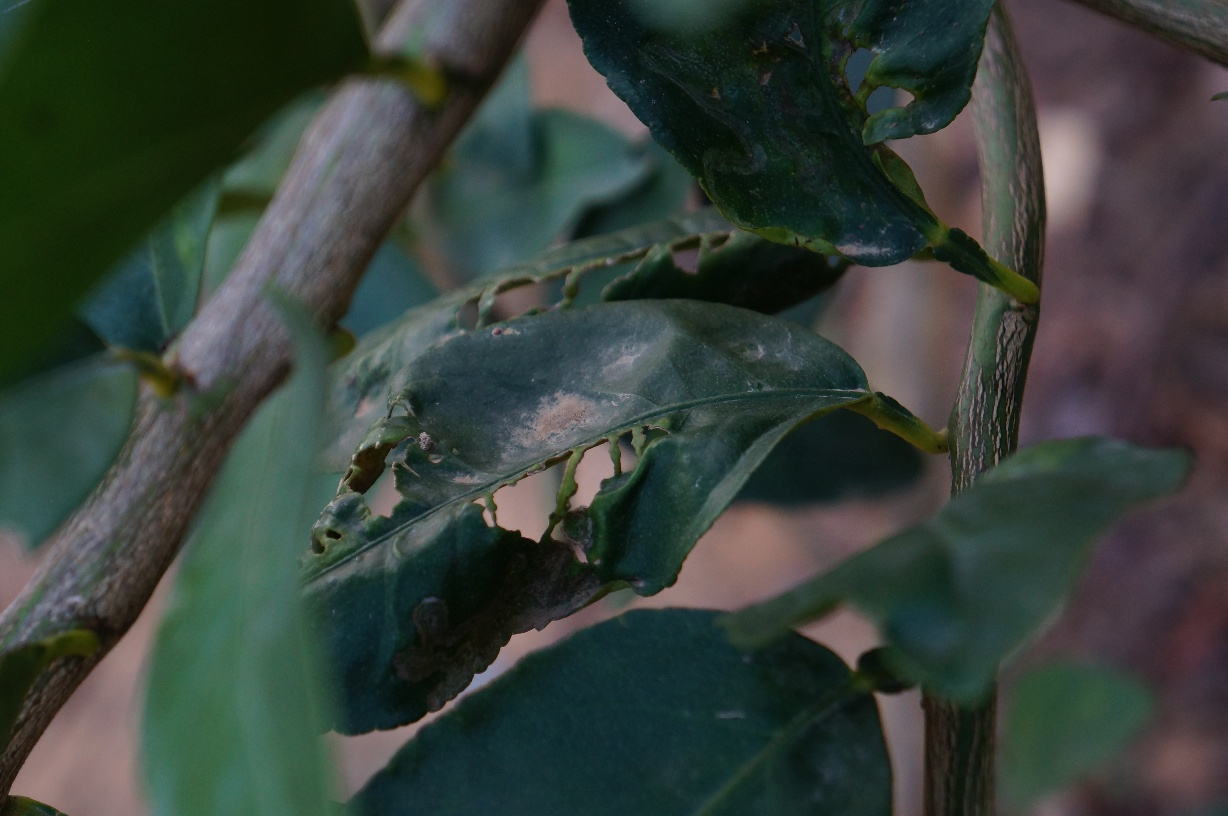damage: (472, 396, 708, 576), (300, 370, 447, 581)
